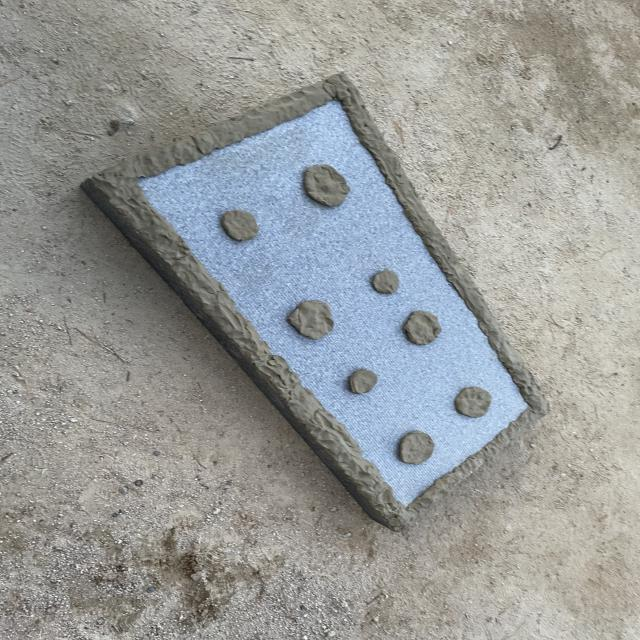dab: (303, 165, 350, 208), (287, 300, 333, 340), (403, 311, 442, 345), (453, 386, 492, 418), (220, 210, 258, 241), (398, 431, 433, 464), (348, 369, 378, 394), (372, 270, 400, 294)
ribbon: (83, 75, 547, 530)
